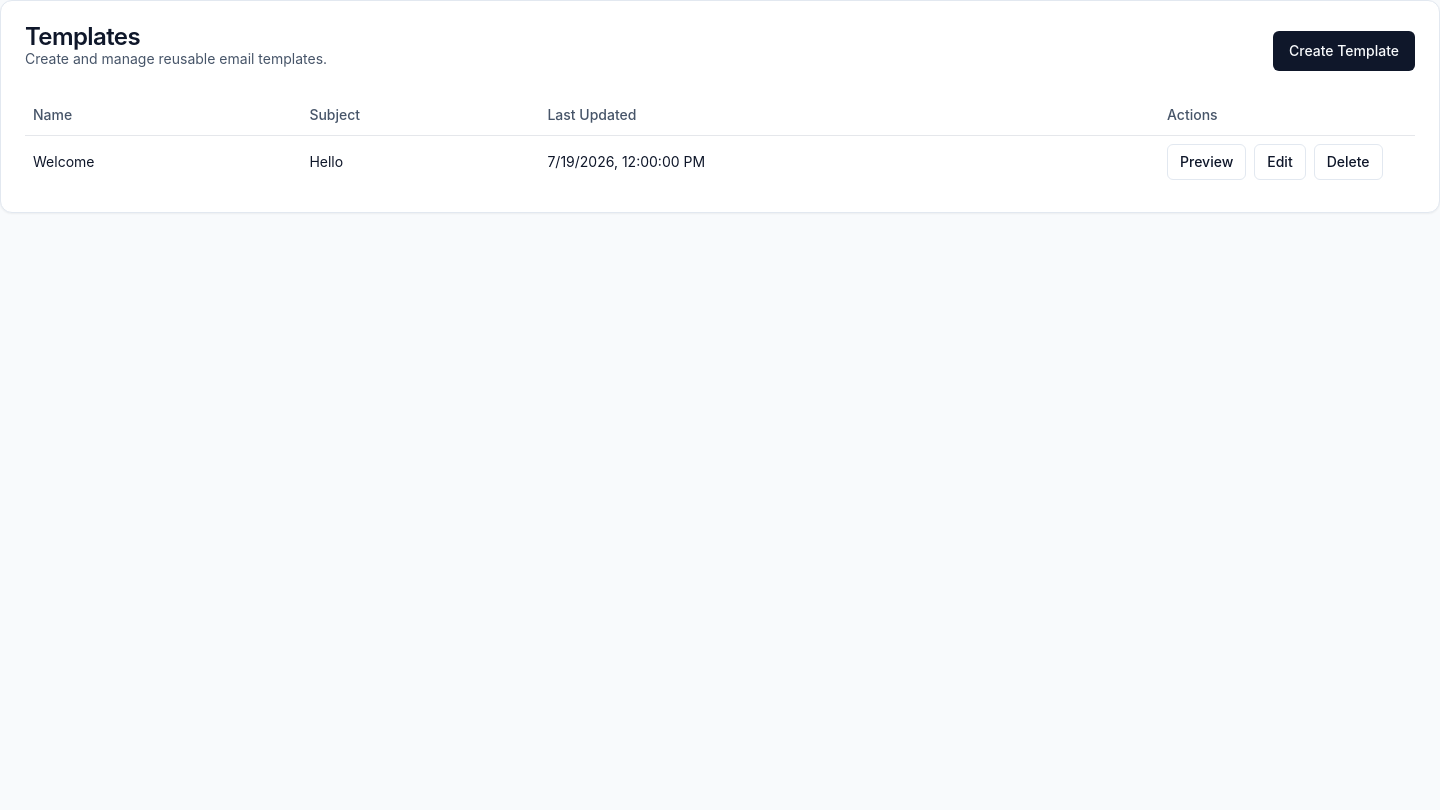
Test: TemplatesPage › opens edit dialog prefilled with selected template
What coordinates should you click on to do the following:
click the button "Edit"
I would click on:
 (1280, 162)
Its box is [1254,144,1306,180].
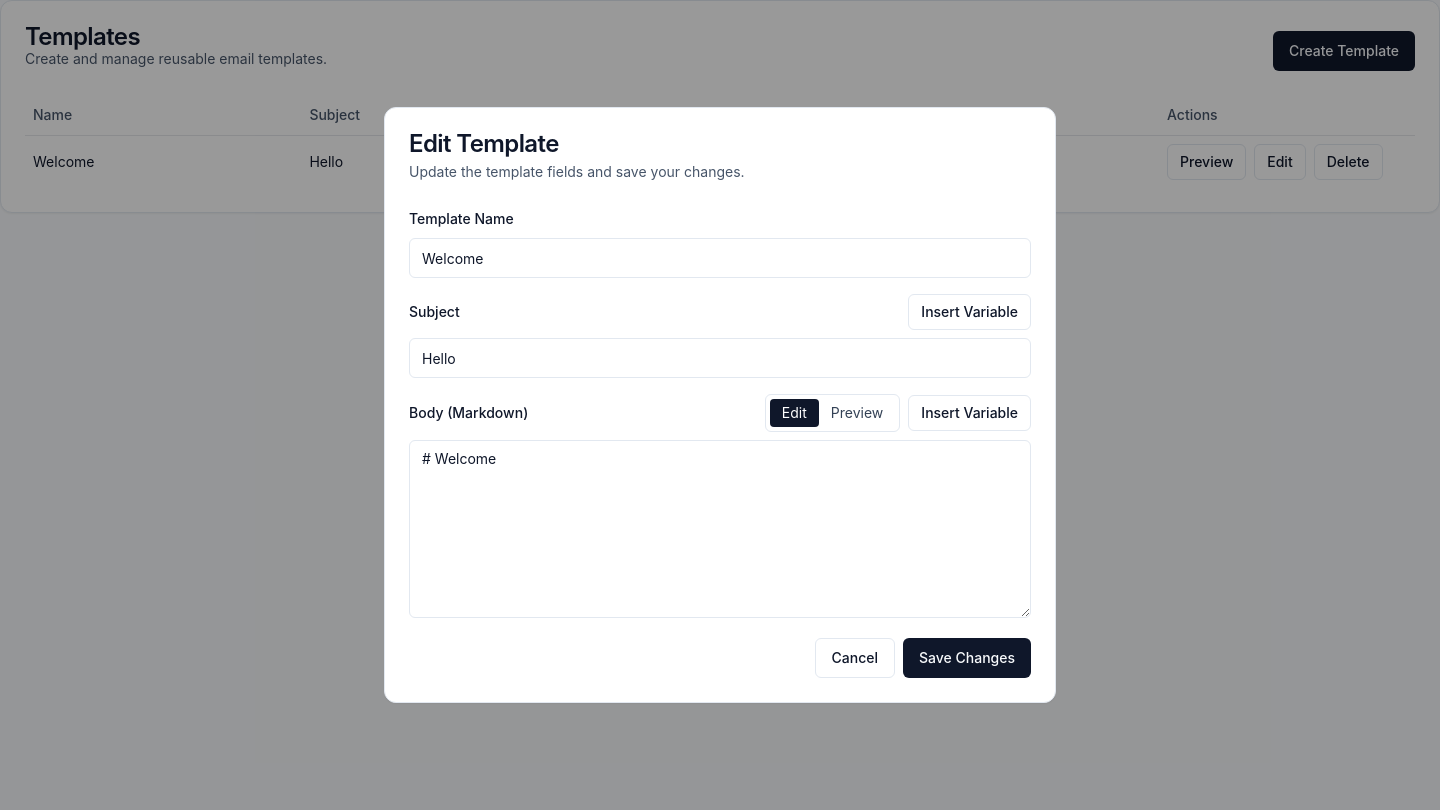
Expected: the heading "Edit Template" is shown, [409,129,559,158]
Expected: the field labelled "Template Name" holds "Welcome", [409,238,1031,278]
Expected: the field labelled "Subject" holds "Hello", [409,338,1031,378]
